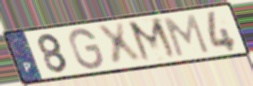4: (206, 9, 239, 53)
8: (36, 32, 69, 75)
G: (68, 27, 105, 71)
M: (125, 16, 181, 65), (162, 13, 212, 58)
X: (94, 20, 145, 68)
